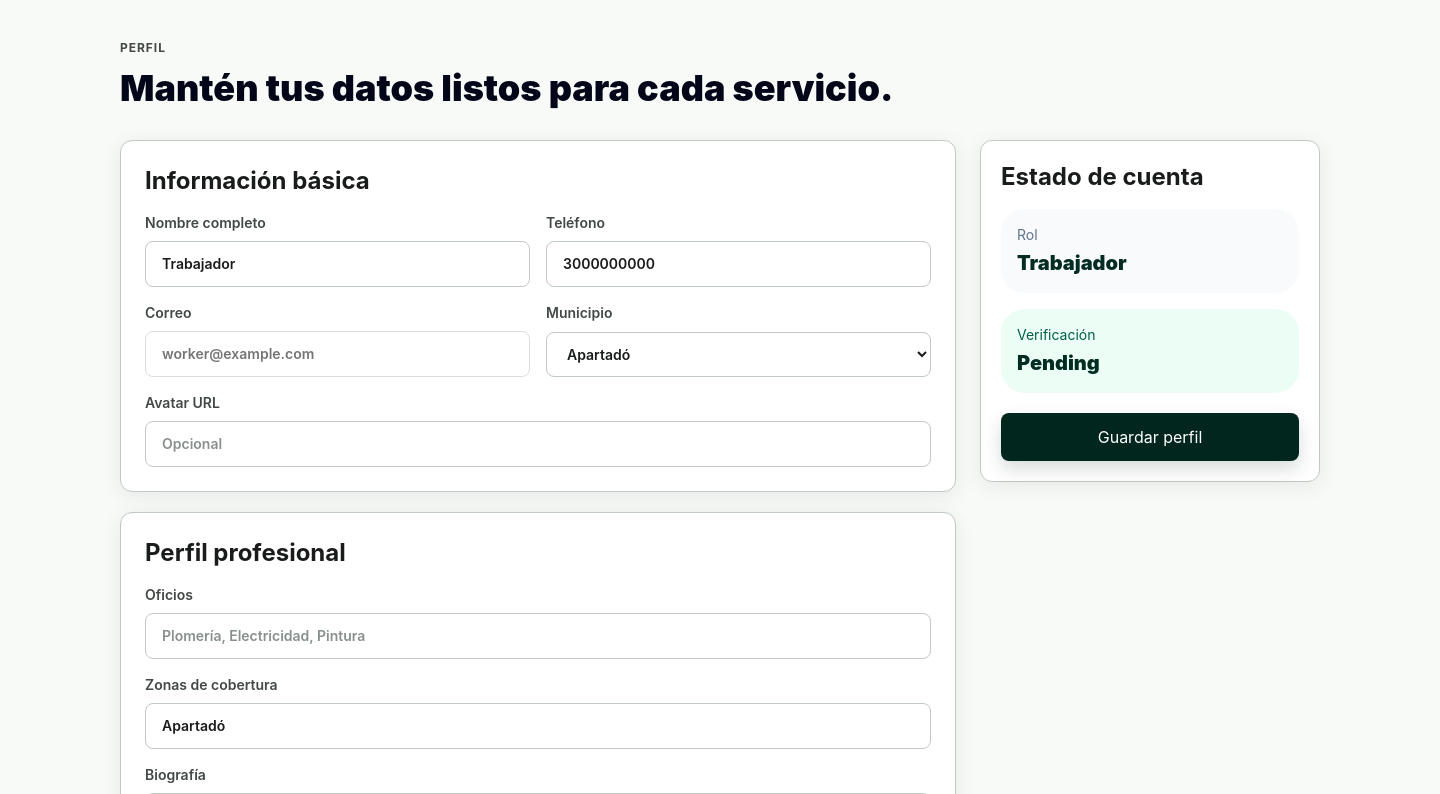
Scenario: ProfileForm › commits private, public, and worker profile writes in one batch
What coordinates should you click on to do the following:
click the button "Guardar perfil"
I would click on:
 (1150, 437)
Its box is x1=1001 y1=413 x2=1299 y2=461.
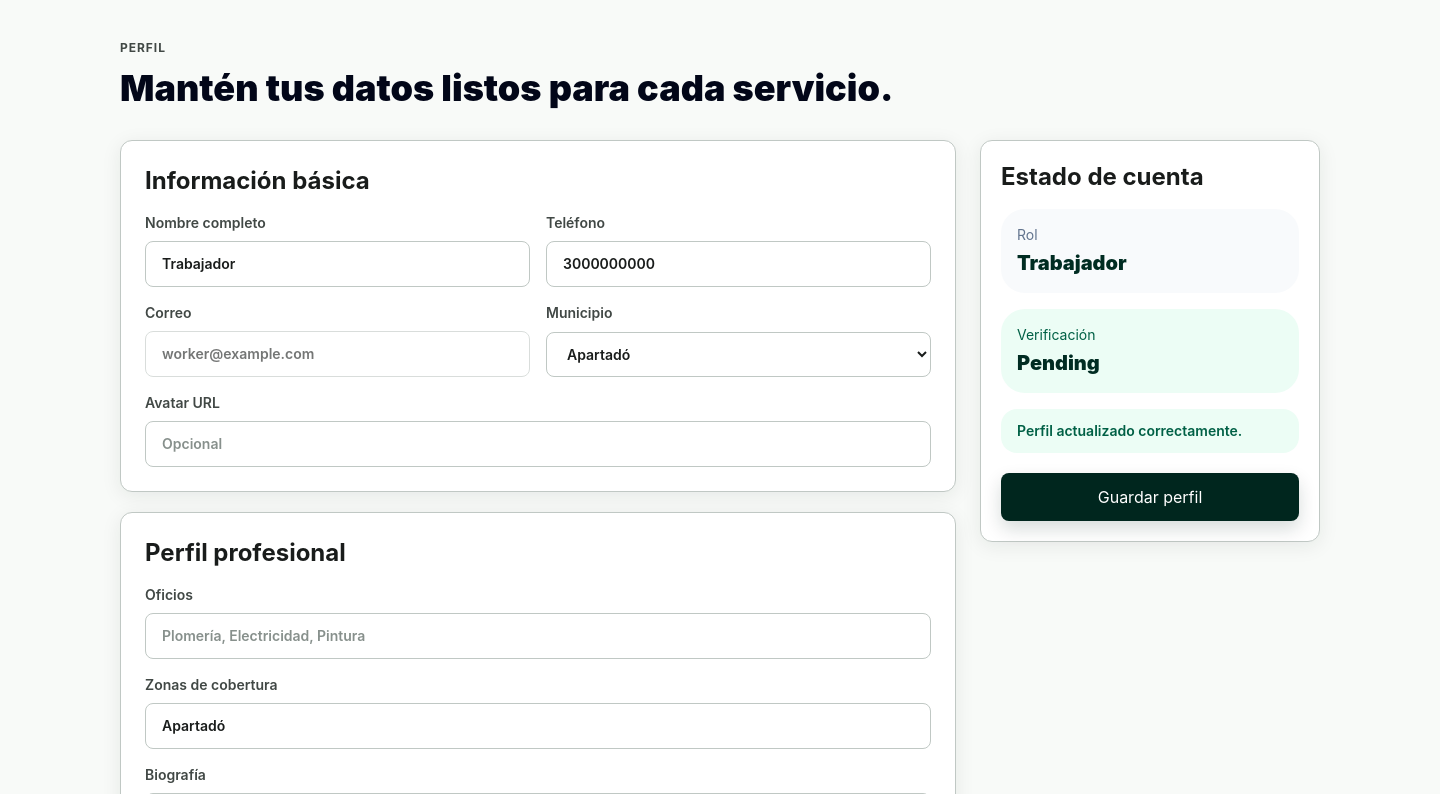
Now the message reads "Perfil actualizado correctamente.", box x1=1017 y1=422 x2=1242 y2=439
